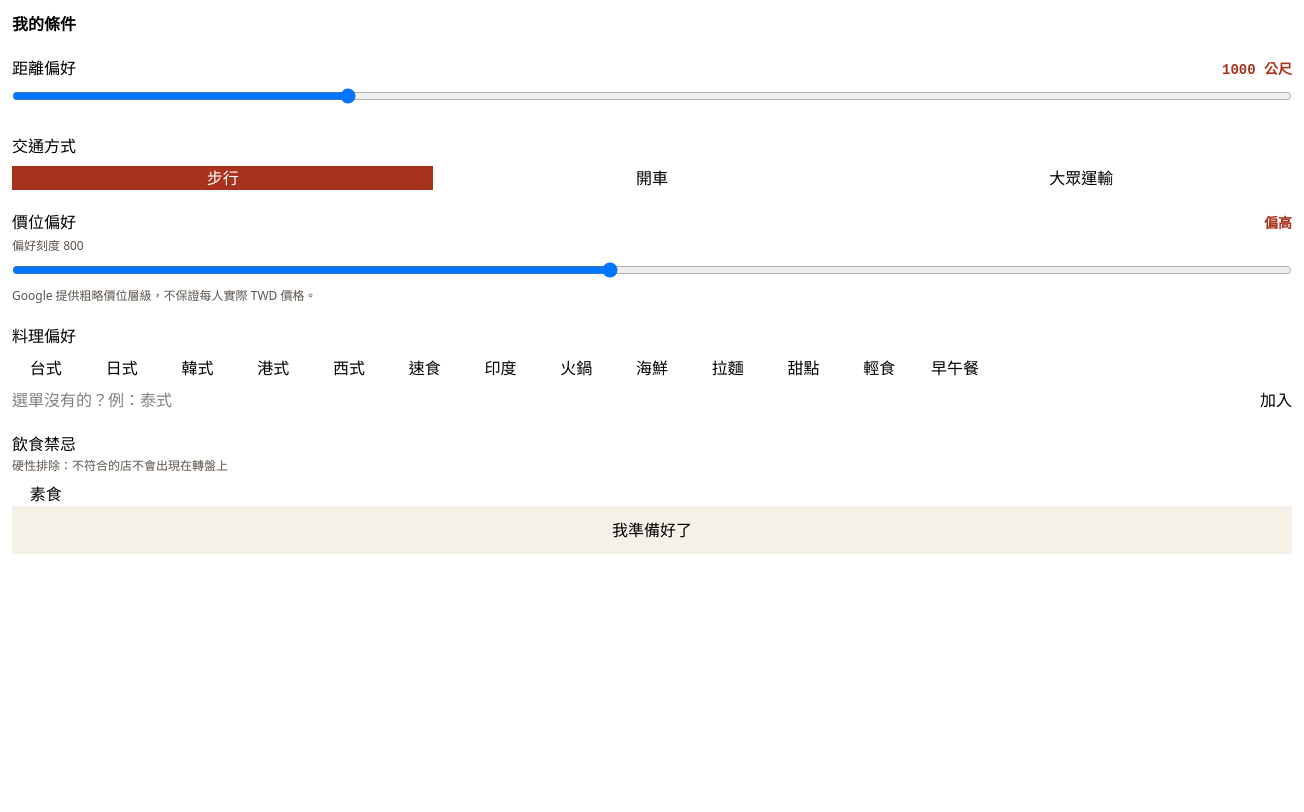
Test: ConditionsForm 條件寫入防線 › pending 條件寫入成功不會倒退 ready 專用寫入保存的值
Set the slider labelled "價位偏好 偏高 偏好刻度 800 Google 提供粗略價位層級，不保證每人實際 TWD 價格。" to "900" at coordinates (694, 270), box [12, 258, 1292, 282]
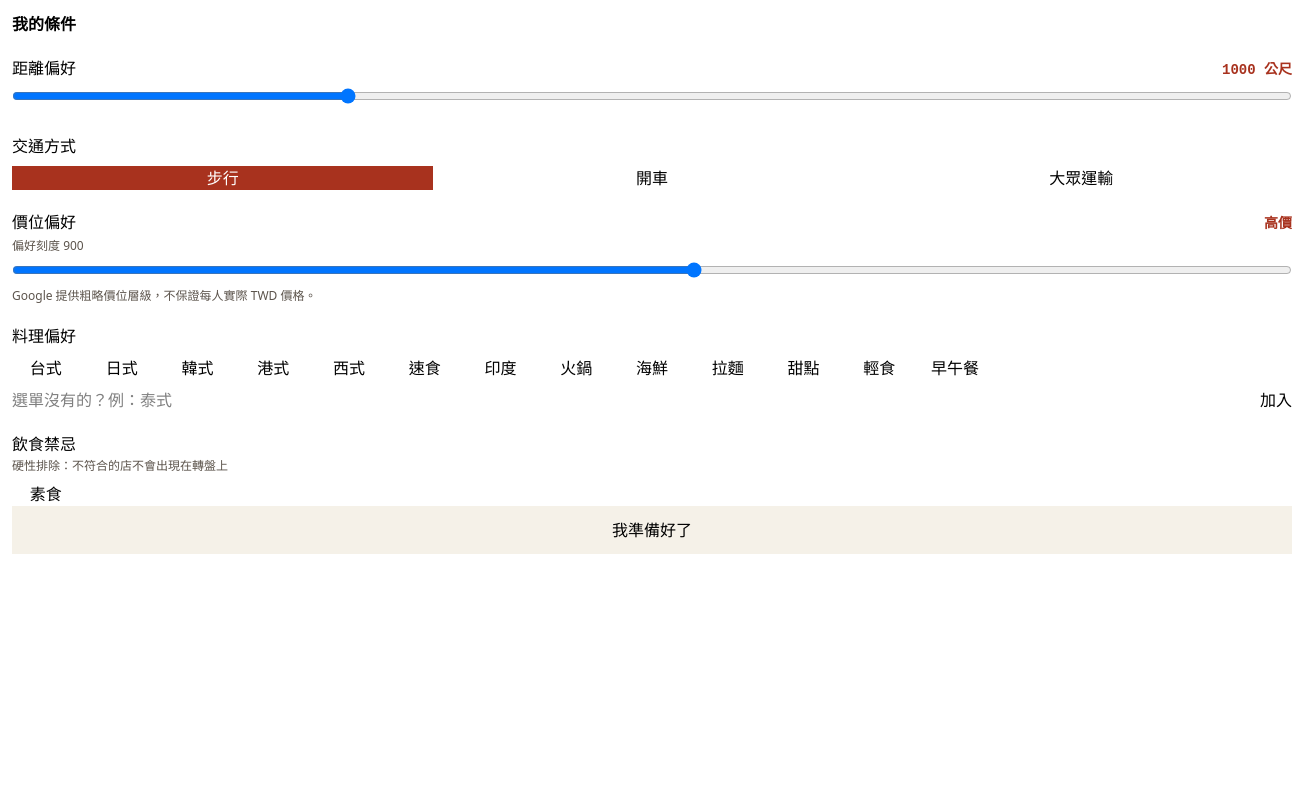
Click the button "我準備好了" at coordinates (652, 530), box [12, 518, 1292, 542]
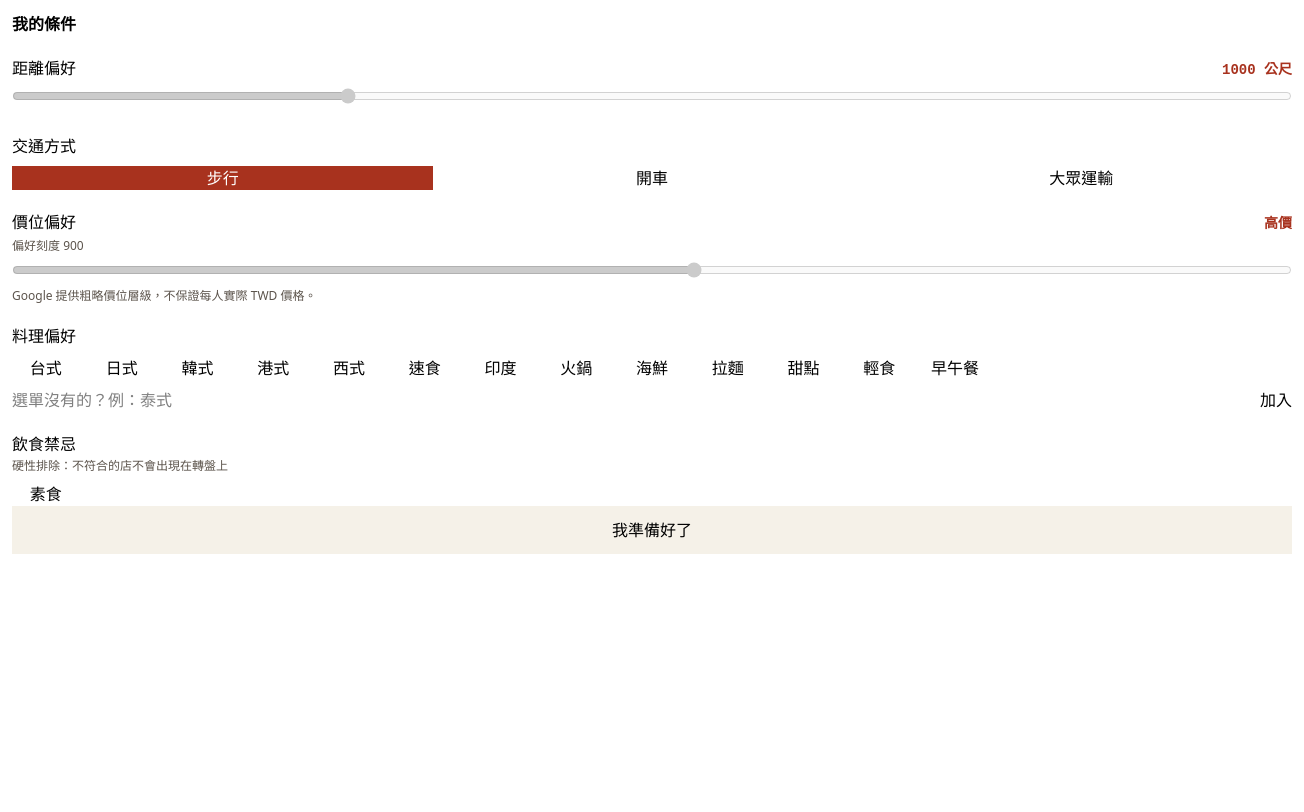
expect the slider labelled "價位偏好 高價 偏好刻度 900 Google 提供粗略價位層級，不保證每人實際 TWD 價格。" is disabled: met
Set the slider labelled "價位偏好 高價 偏好刻度 900 Google 提供粗略價位層級，不保證每人實際 TWD 價格。" to "1000" at coordinates (778, 270), box [12, 258, 1292, 282]
Wait 401 ms
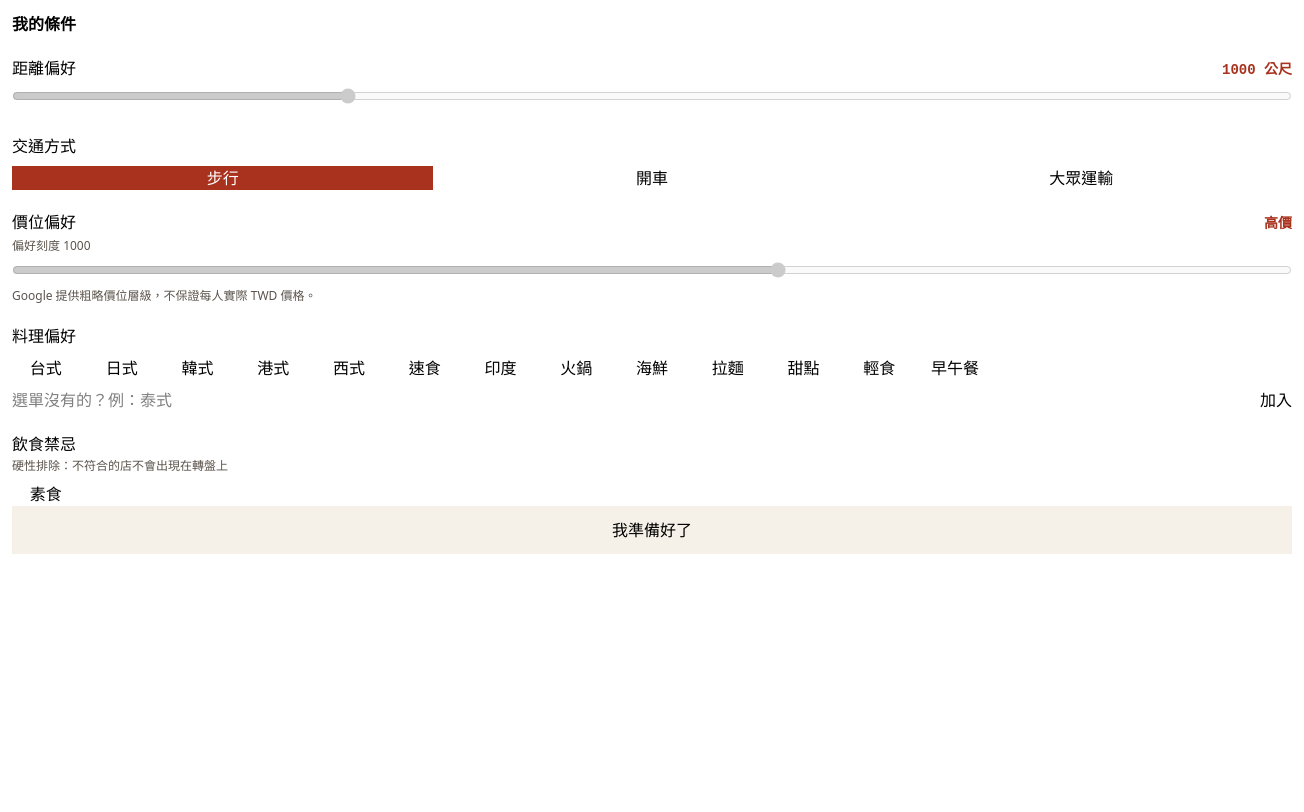
Set the slider labelled "價位偏好 高價 偏好刻度 1000 Google 提供粗略價位層級，不保證每人實際 TWD 價格。" to "1100" at coordinates (863, 270), box [12, 258, 1292, 282]
Wait 401 ms
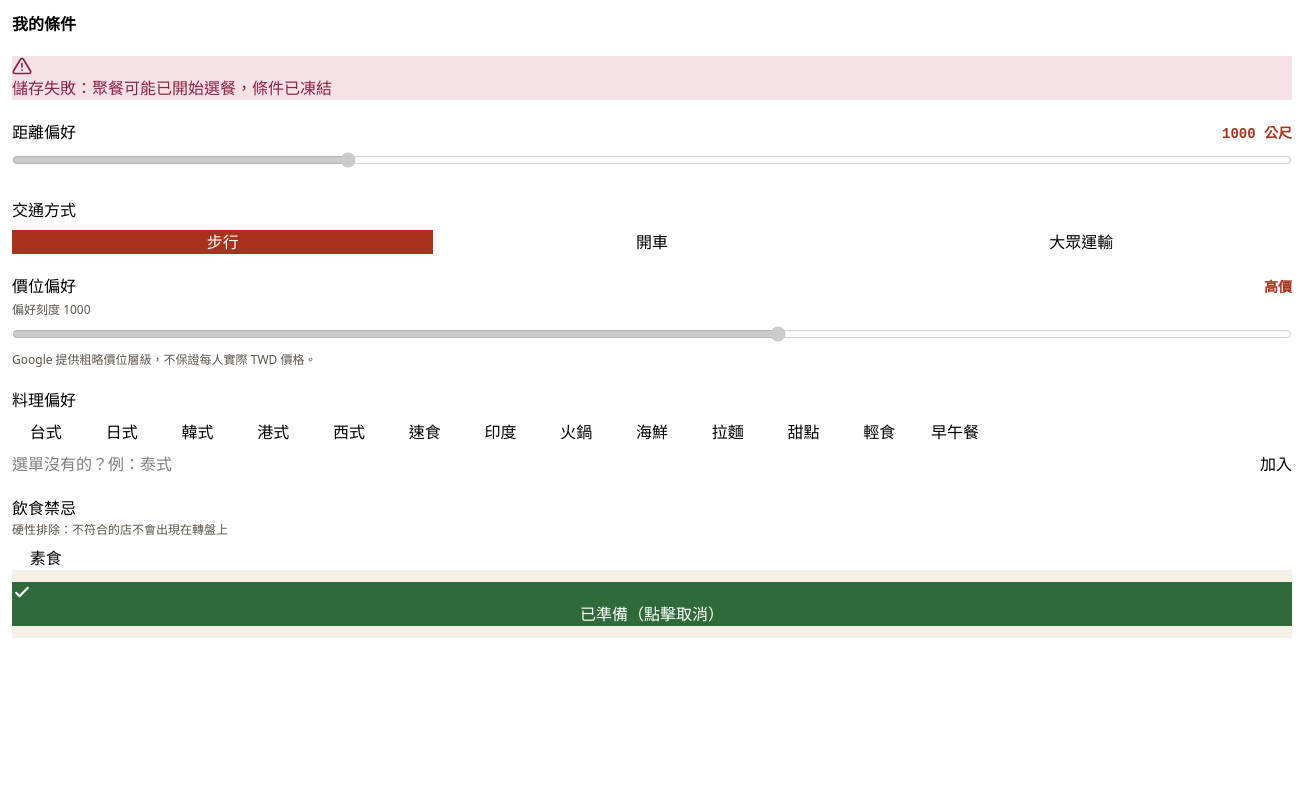
expect the text "儲存失敗：聚餐可能已開始選餐，條件已凍結" is shown: met, box [12, 77, 332, 99]
